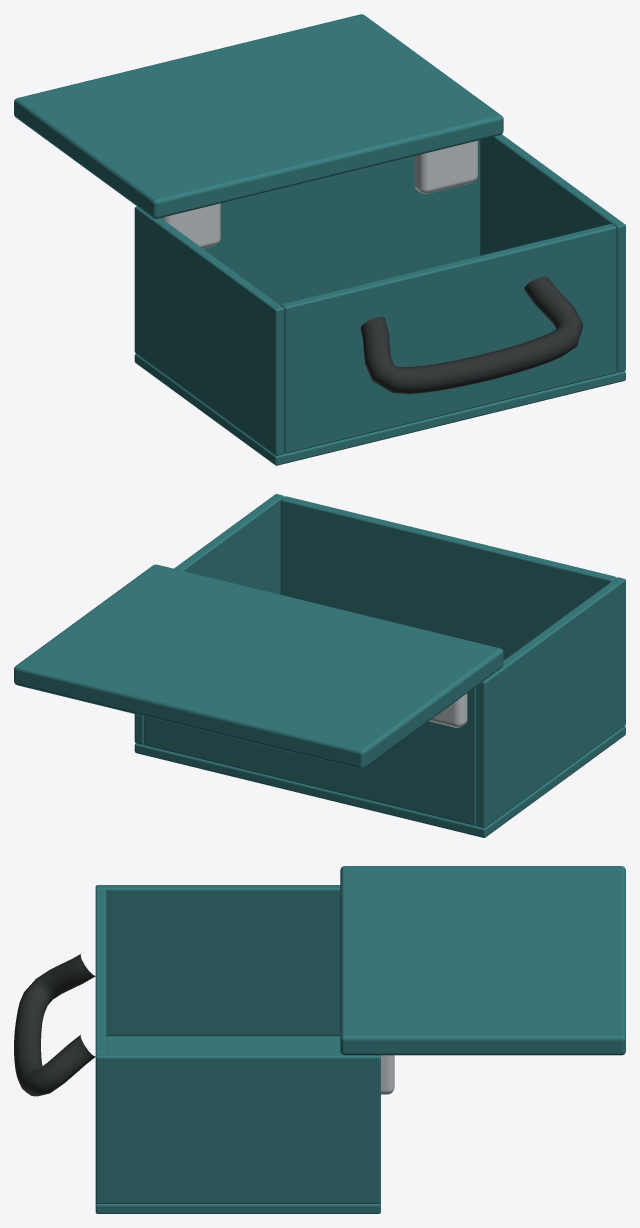
File: tabletop-hobby-store-and-club-miniature-transport-case-360da389__31602.glb
3 renders of one model, top to bottom at view 1: azimuth 30°, elevation 25°; view 2: azimuth 150°, elevation 25°; view 3: azimuth 270°, elevation 25°, orthographic.
Visible parts, largest first — view 1: miniature-transport-case; view 2: miniature-transport-case; view 3: miniature-transport-case.
Part boxes in pixels (box(x1,y1,x2,y2)): miniature-transport-case: box(14, 14, 625, 465); miniature-transport-case: box(14, 494, 625, 837); miniature-transport-case: box(14, 866, 625, 1213).
Size of the model in its own units: 0.15 by 0.072 by 0.225.
